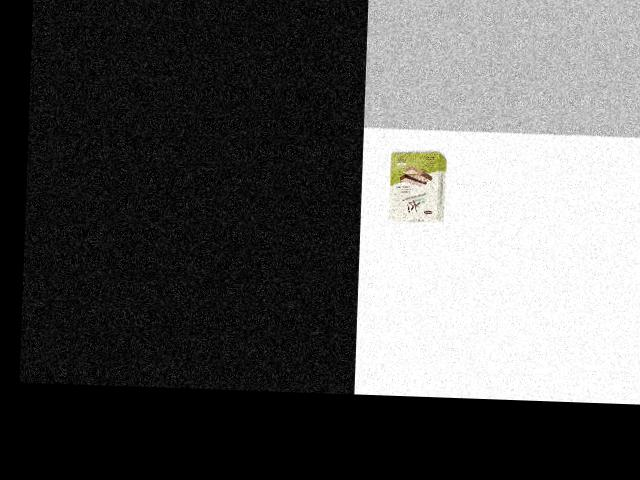chocolate: (382, 146, 450, 225)
